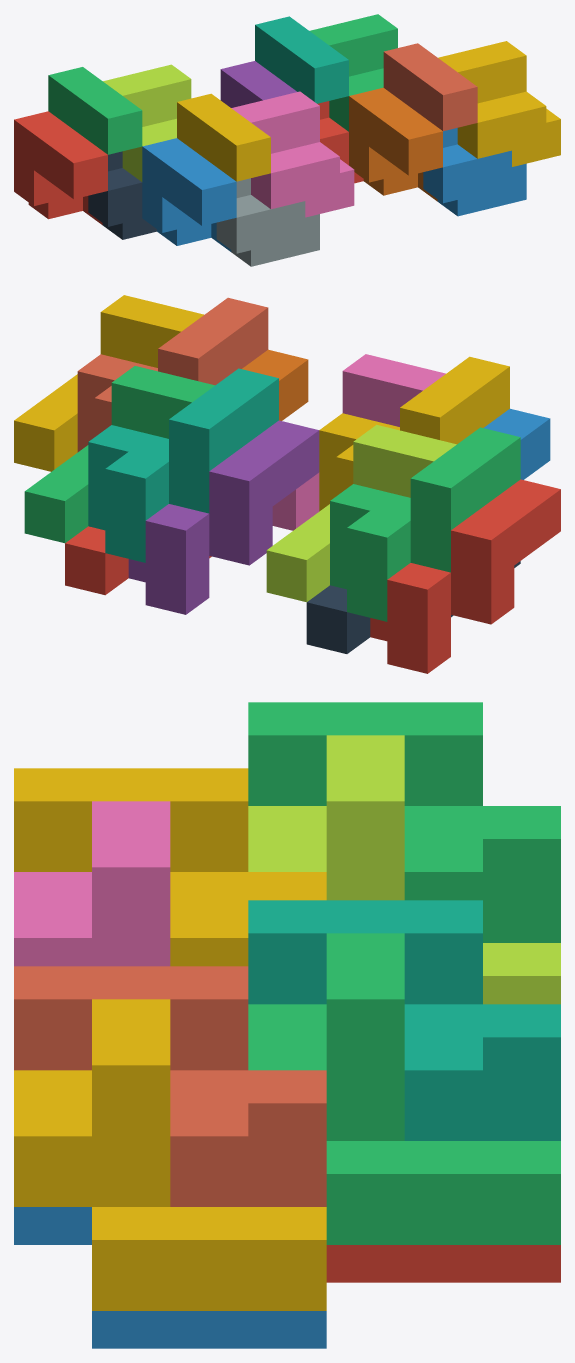
File: tiling.obj
3 views of the same model, one above another, from view 1: azimuth 30°, elevation 25°; view 2: azimuth 150°, elevation 25°; view 3: azimuth 270°, elevation 25° (orthographic). The views are drawn at different scales.
Visible parts, largest first — view 1: copy_2_domain_8, copy_2_domain_4, copy_1_domain_2, copy_1_domain_1, copy_1_domain_6, copy_1_domain_8, copy_1_domain_3, copy_1_domain_4, copy_1_domain_7, copy_2_domain_2, copy_2_domain_6, copy_2_domain_3 (+4 smaller); view 2: copy_1_domain_7, copy_1_domain_3, copy_1_domain_5, copy_1_domain_1, copy_1_domain_8, copy_1_domain_4, copy_2_domain_7, copy_2_domain_3, copy_2_domain_8, copy_2_domain_4, copy_2_domain_1, copy_2_domain_5 (+2 smaller); view 3: copy_2_domain_8, copy_2_domain_7, copy_1_domain_7, copy_1_domain_8, copy_1_domain_3, copy_1_domain_4, copy_2_domain_3, copy_2_domain_4, copy_2_domain_6, copy_2_domain_5.
Boxes of the visible parts, x1=… form: copy_2_domain_8: x1=438, y1=41, x2=560, y2=166; copy_2_domain_4: x1=231, y1=91, x2=354, y2=217; copy_1_domain_2: x1=142, y1=138, x2=236, y2=251; copy_1_domain_1: x1=14, y1=111, x2=107, y2=224; copy_1_domain_6: x1=349, y1=87, x2=442, y2=201; copy_1_domain_8: x1=383, y1=43, x2=477, y2=131; copy_1_domain_3: x1=48, y1=67, x2=142, y2=154; copy_1_domain_4: x1=177, y1=93, x2=270, y2=181; copy_1_domain_7: x1=255, y1=16, x2=348, y2=103; copy_2_domain_2: x1=216, y1=178, x2=319, y2=266; copy_2_domain_6: x1=423, y1=128, x2=526, y2=216; copy_2_domain_3: x1=103, y1=64, x2=191, y2=181; copy_1_domain_7: x1=88, y1=368, x2=278, y2=562; copy_1_domain_3: x1=330, y1=427, x2=520, y2=621; copy_1_domain_5: x1=128, y1=420, x2=319, y2=614; copy_1_domain_1: x1=370, y1=479, x2=560, y2=673; copy_1_domain_8: x1=77, y1=297, x2=268, y2=452; copy_1_domain_4: x1=319, y1=356, x2=509, y2=511; copy_2_domain_7: x1=24, y1=366, x2=214, y2=543; copy_2_domain_3: x1=266, y1=424, x2=456, y2=602; copy_2_domain_8: x1=14, y1=295, x2=203, y2=471; copy_2_domain_4: x1=272, y1=354, x2=445, y2=530; copy_2_domain_1: x1=306, y1=561, x2=520, y2=653; copy_2_domain_5: x1=65, y1=526, x2=211, y2=595; copy_2_domain_8: x1=14, y1=999, x2=326, y2=1310; copy_2_domain_7: x1=248, y1=933, x2=560, y2=1244; copy_1_domain_7: x1=248, y1=900, x2=560, y2=1140; copy_1_domain_8: x1=14, y1=966, x2=326, y2=1206; copy_1_domain_3: x1=248, y1=702, x2=560, y2=942; copy_1_domain_4: x1=14, y1=768, x2=326, y2=966; copy_2_domain_3: x1=248, y1=735, x2=560, y2=1004; copy_2_domain_4: x1=14, y1=801, x2=170, y2=966; copy_2_domain_6: x1=14, y1=1207, x2=326, y2=1348; copy_2_domain_5: x1=326, y1=1245, x2=560, y2=1282.
Size of the model in its own units: 13 by 4 by 7.
